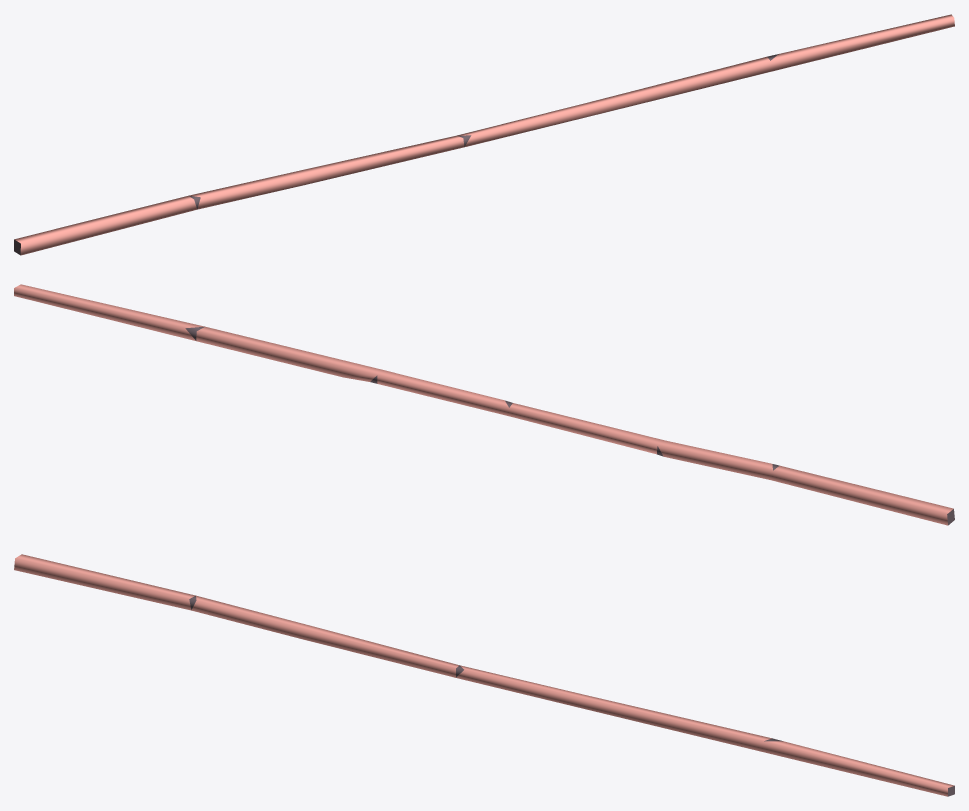
File: woodenPoleXLong_birch.glb
3 views of the same model, one above another, from view 1: azimuth 30°, elevation 25°; view 2: azimuth 150°, elevation 25°; view 3: azimuth 330°, elevation 25° (orthographic).
Parts seen in each view (by area): view 1: Cube; view 2: Cube; view 3: Cube.
Part boxes in pixels (<box>): Cube: <box>14,14,954,255</box>; Cube: <box>14,284,954,525</box>; Cube: <box>14,554,954,796</box>.
Bounding box in the file's own units: 4.79 × 0.0688 × 0.0755.
